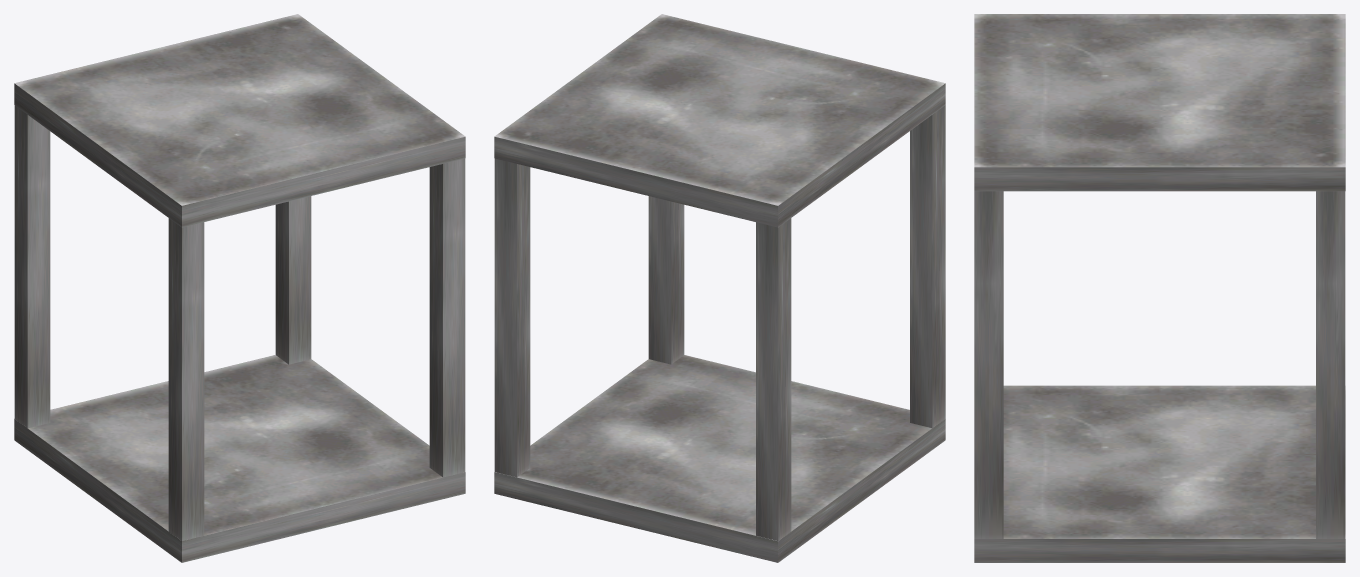
File: estructura.obj
The picture shows the model from 3 angles, left to right: view 1: azimuth 30°, elevation 25°; view 2: azimuth 150°, elevation 25°; view 3: azimuth 270°, elevation 25°; orthographic projection. The views are drawn at different scales.
Parts seen in each view (by area): view 1: pasted__pasted__pasted__pCube4 pasted__pasted__group pasted__gro, pasted__pasted__pCube4 pasted__group group1, pasted__pasted__pasted__pasted__pCube4 pasted__pasted__pasted__g, pasted__pCube4 group, pasted__pasted__pCube4 pasted__group group5; view 2: pasted__pasted__pasted__pCube4 pasted__pasted__group pasted__gro, pasted__pasted__pCube4 pasted__group group1, pasted__pasted__pCube4 pasted__group group5, pasted__pasted__pasted__pasted__pCube4 pasted__pasted__pasted__g, pasted__pCube4 group; view 3: pasted__pasted__pasted__pCube4 pasted__pasted__group pasted__gro, pasted__pasted__pCube4 pasted__group group1, pasted__pCube4 group, pasted__pasted__pCube4 pasted__group group5.
Part boxes in pixels (x1,y1,x2,y2): pasted__pasted__pasted__pCube4 pasted__pasted__group pasted__gro: (14,14,465,428); pasted__pasted__pCube4 pasted__group group1: (14,355,465,562); pasted__pasted__pasted__pasted__pCube4 pasted__pasted__pasted__g: (168,218,204,540); pasted__pCube4 group: (429,158,465,477); pasted__pasted__pCube4 pasted__group group5: (275,196,311,364); pasted__pasted__pasted__pCube4 pasted__pasted__group pasted__gro: (494,14,945,540); pasted__pasted__pCube4 pasted__group group1: (494,355,945,562); pasted__pasted__pCube4 pasted__group group5: (494,158,530,477); pasted__pasted__pasted__pasted__pCube4 pasted__pasted__pasted__g: (910,105,945,428); pasted__pCube4 group: (648,196,684,364); pasted__pasted__pasted__pCube4 pasted__pasted__group pasted__gro: (974,14,1345,191); pasted__pasted__pCube4 pasted__group group1: (974,385,1345,562); pasted__pCube4 group: (974,191,1003,538); pasted__pasted__pCube4 pasted__group group5: (1316,191,1345,538).
Bounding box in the file's own units: 0.8049 × 0.9675 × 0.823.
Materials: 1 (1 with a texture image).
